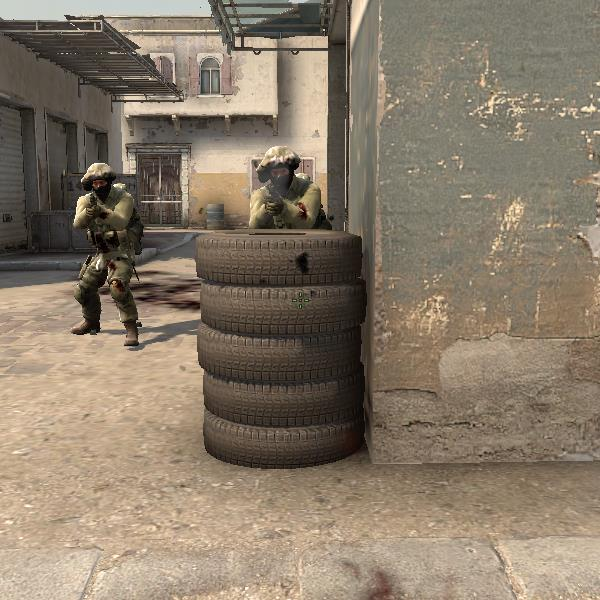ct_body: (54, 162, 158, 348)
ct_head: (83, 167, 120, 204)
